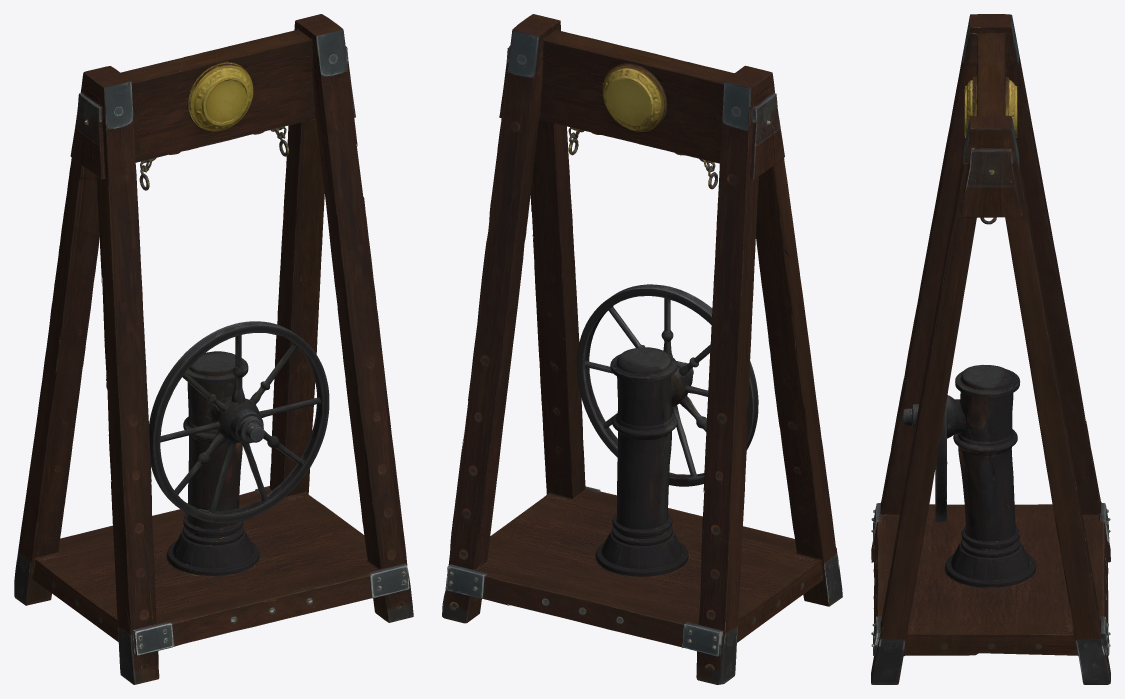
3 views of the same model, side by side, from view 1: azimuth 30°, elevation 25°; view 2: azimuth 150°, elevation 25°; view 3: azimuth 270°, elevation 25° (orthographic).
Size of the model in its own units: 1 by 1.9 by 0.7556.
1 material, 1 textured.
